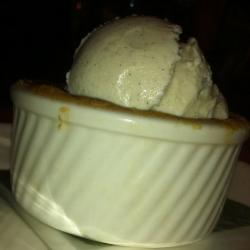icecream: (65, 12, 234, 131)
